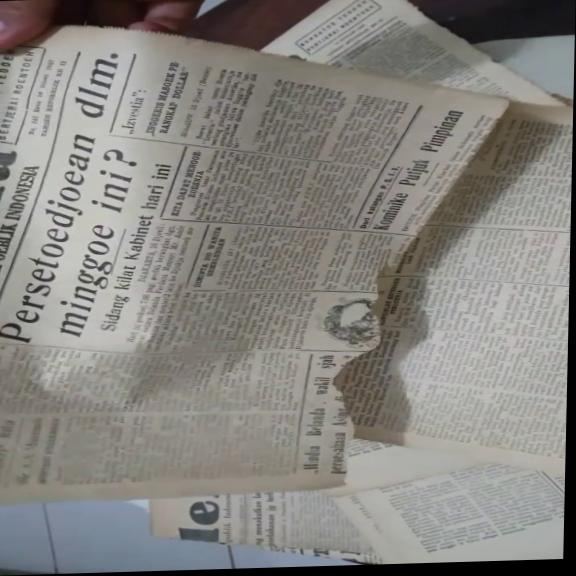Kertas: (0, 10, 516, 497)
